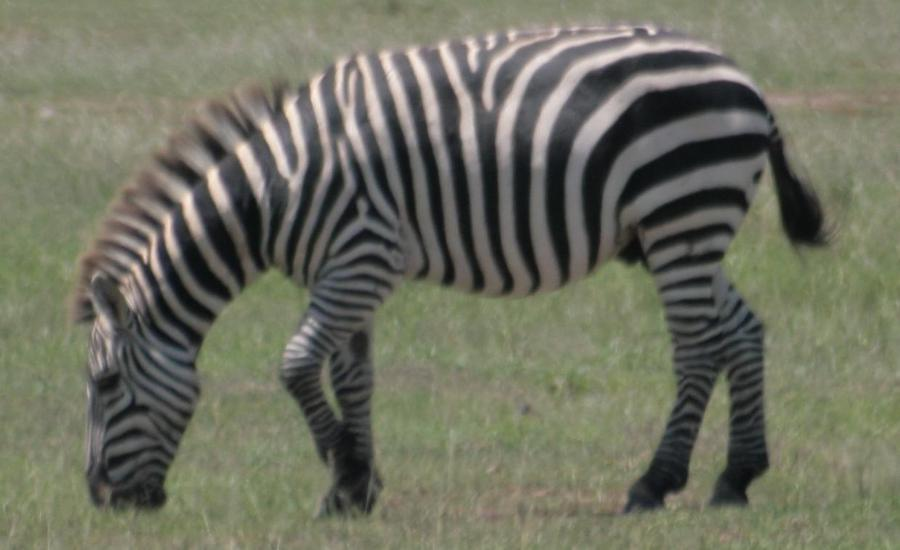zebra_plains: (240, 6, 796, 357)
